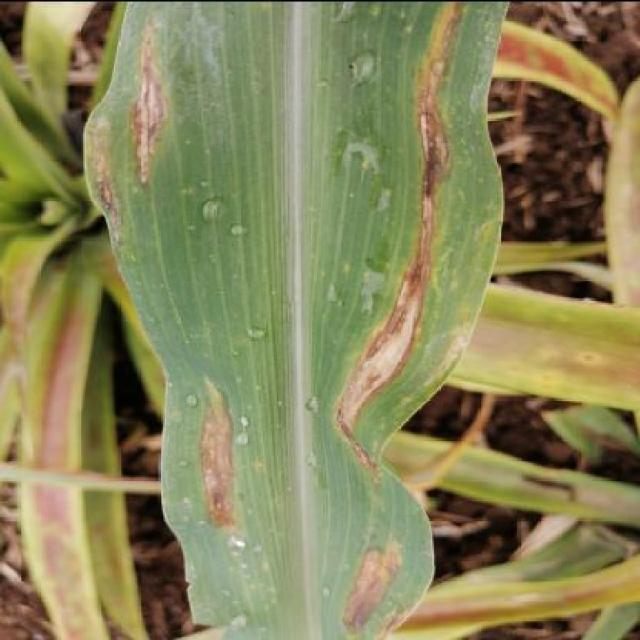Corn_Leaf_Blight: (86, 0, 505, 640)
